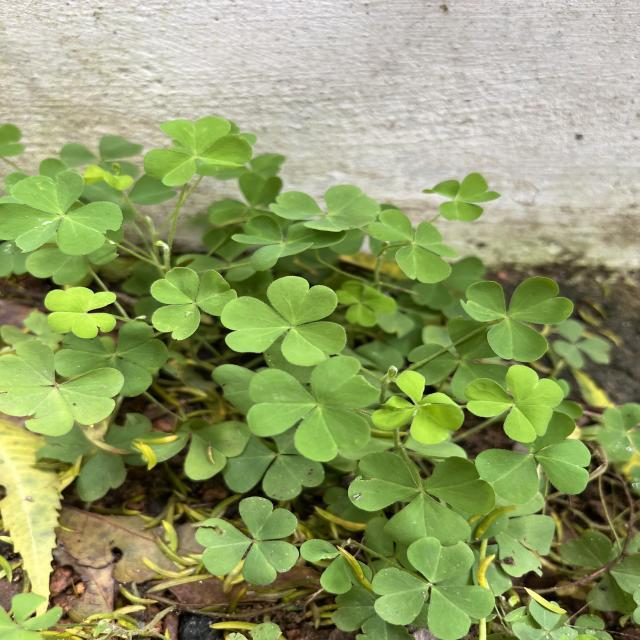Oxalis corniculata: (246, 355, 382, 463), (346, 449, 496, 546), (370, 534, 498, 640), (0, 338, 126, 437), (220, 274, 352, 366), (0, 168, 126, 258), (458, 275, 576, 364), (192, 493, 302, 588), (140, 113, 254, 187), (462, 363, 570, 438), (370, 371, 467, 446), (368, 208, 460, 284), (148, 264, 238, 340), (268, 182, 380, 232), (44, 284, 118, 339)
